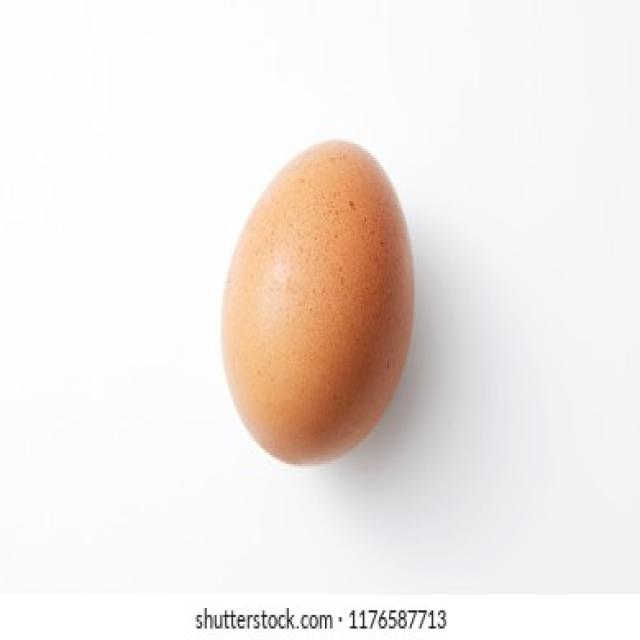Brown Egg: (215, 127, 424, 480)
